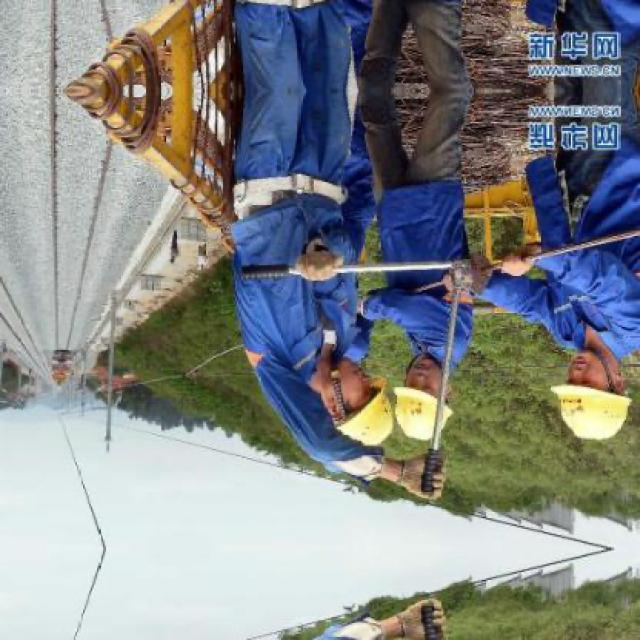con casco: (530, 312, 632, 488), (291, 342, 400, 479), (400, 331, 500, 457)
